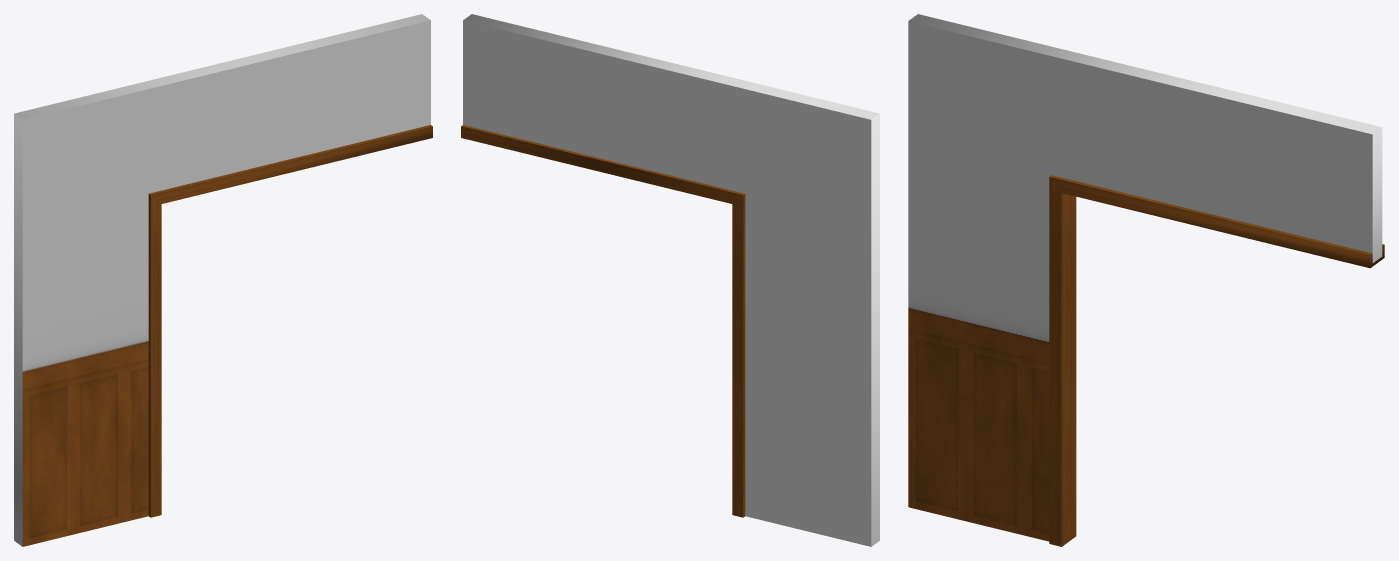
The model's file is WallWBrickMainEntranceRight.fbx.
3 views of the same model, side by side, from view 1: azimuth 30°, elevation 25°; view 2: azimuth 150°, elevation 25°; view 3: azimuth 330°, elevation 25° (orthographic). The views are drawn at different scales.
Parts seen in each view (by area): view 1: walldoor.001; view 2: walldoor.001; view 3: walldoor.001.
Part boxes in pixels (x1=…): walldoor.001: x1=14, y1=14, x2=432, y2=546; walldoor.001: x1=461, y1=14, x2=879, y2=546; walldoor.001: x1=908, y1=14, x2=1384, y2=546.
Size of the model in its own units: 200 by 200 by 10.79.
2 materials, 1 textured.
